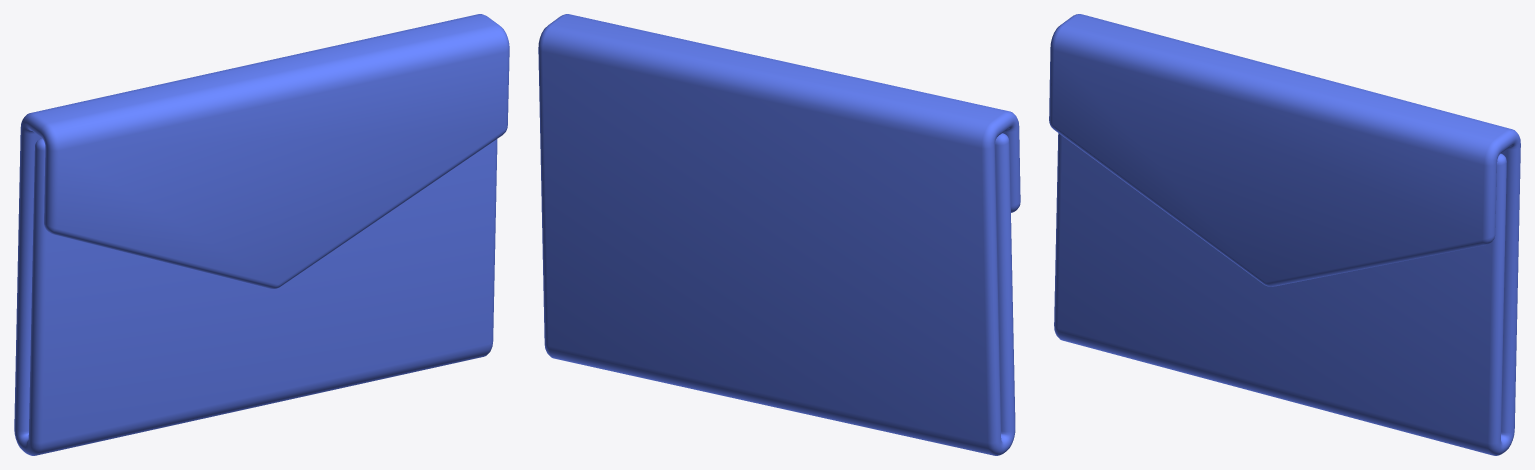
The model's file is envelope.glb.
The picture shows the model from 3 angles, left to right: view 1: azimuth 30°, elevation 25°; view 2: azimuth 150°, elevation 25°; view 3: azimuth 330°, elevation 25°; orthographic projection. The views are drawn at different scales.
Visible parts, largest first — view 1: envelope; view 2: envelope; view 3: envelope.
Boxes of the visible parts, <box> form: envelope: <box>14,14,509,455</box>; envelope: <box>538,14,1020,455</box>; envelope: <box>1049,14,1520,455</box>.
Bounding box in the file's own units: 0.7547 × 0.5352 × 0.0952.
